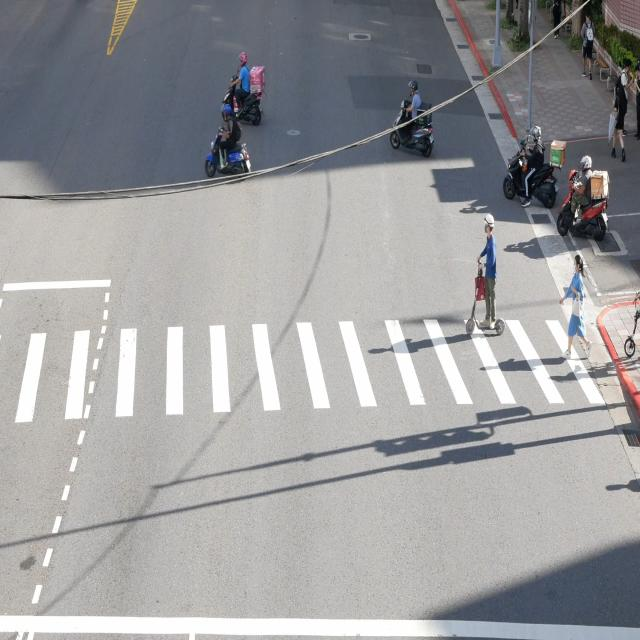pedestrian: (560, 255, 591, 357), (476, 236, 497, 324), (478, 214, 496, 279)
